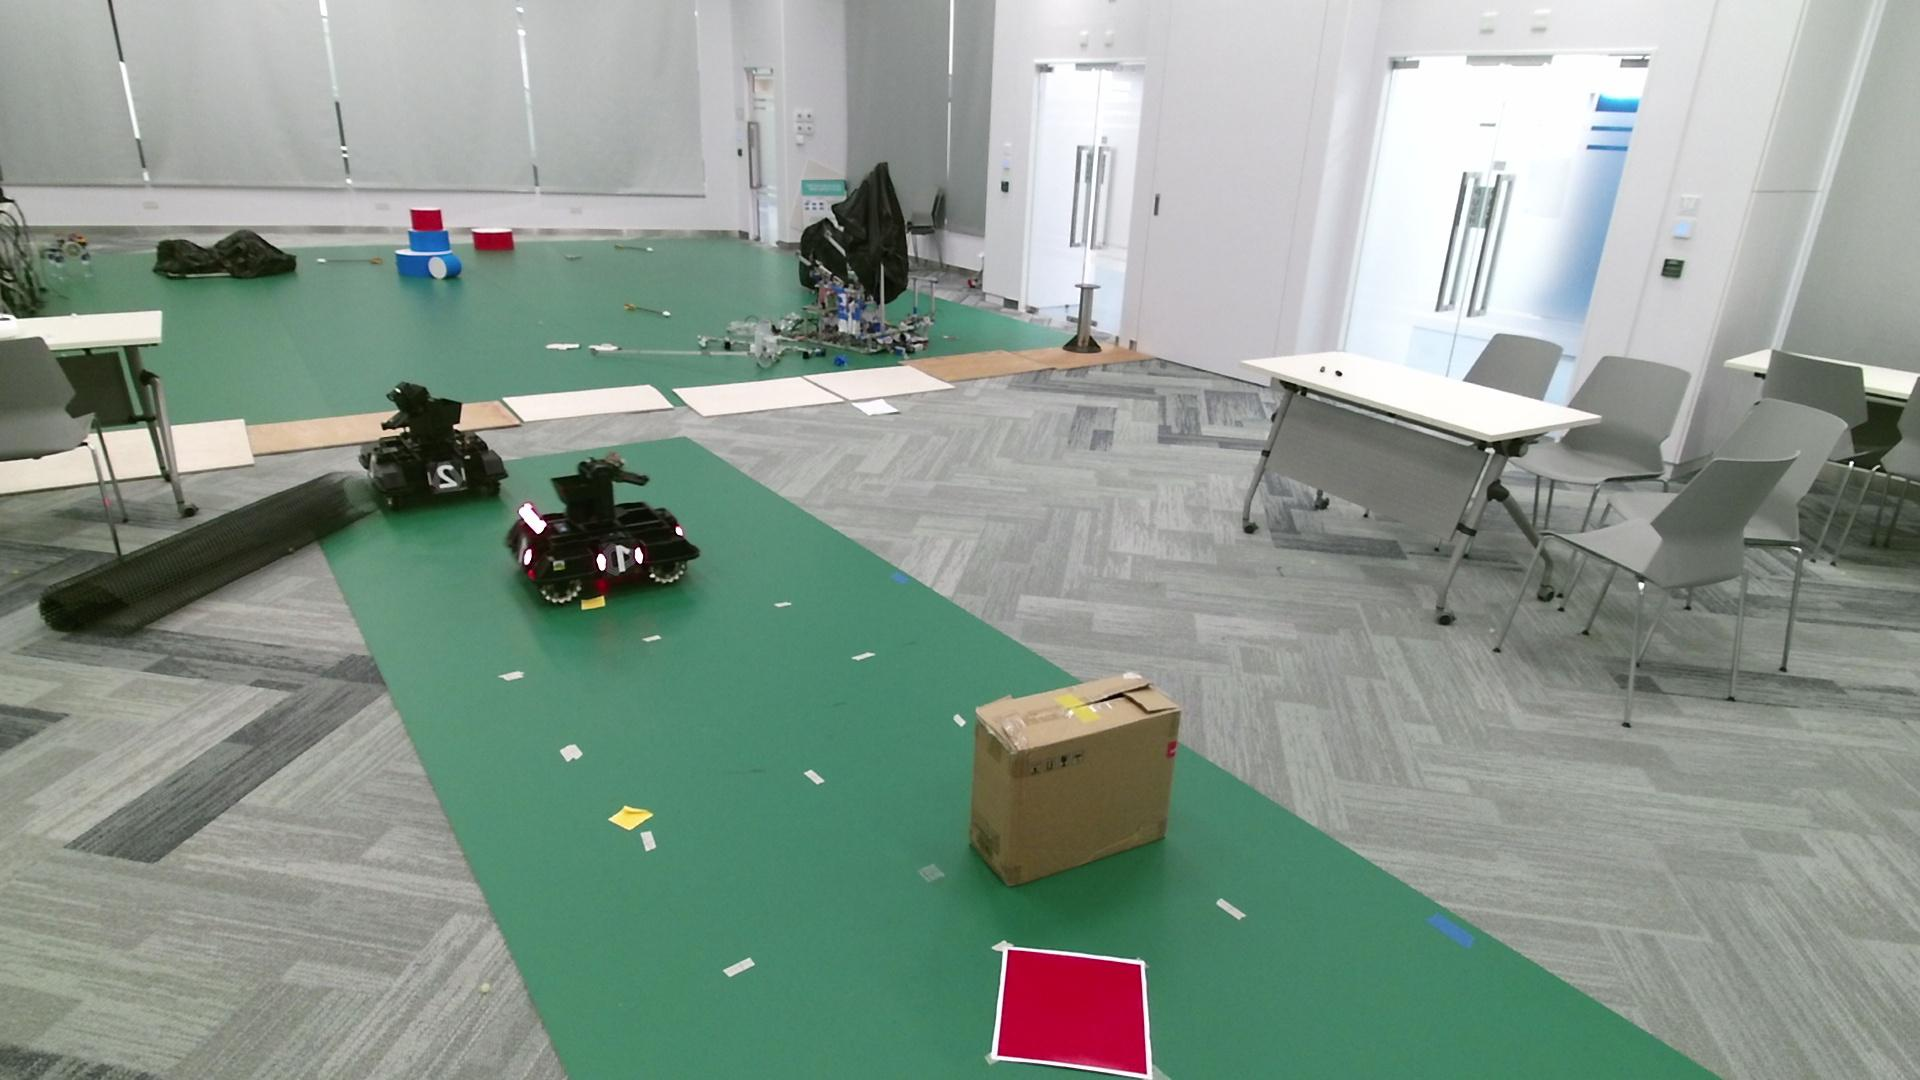robot: (506, 450, 699, 605), (357, 380, 509, 506)
